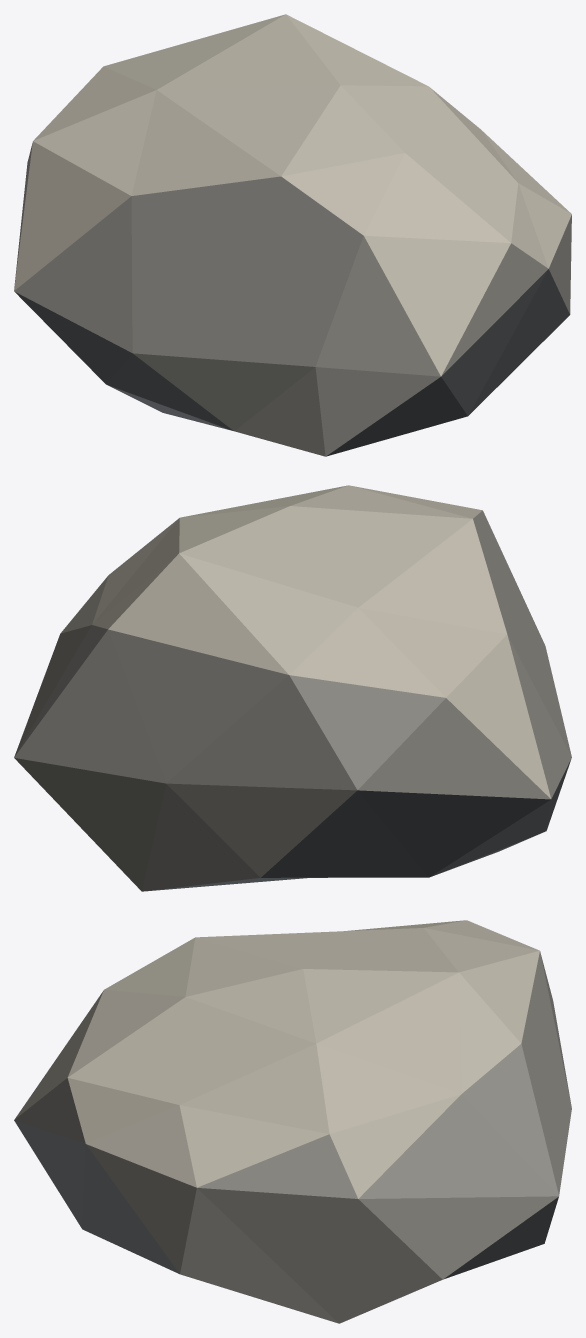
Rendered from SM_Rock_F.fbx.
The picture shows the model from 3 angles, top to bottom: view 1: azimuth 30°, elevation 25°; view 2: azimuth 150°, elevation 25°; view 3: azimuth 270°, elevation 25°; orthographic projection. The views are drawn at different scales.
Parts seen in each view (by area): view 1: SM_Rock_F; view 2: SM_Rock_F; view 3: SM_Rock_F.
Boxes of the visible parts, <box> form: SM_Rock_F: <box>14,14,571,456</box>; SM_Rock_F: <box>14,485,571,891</box>; SM_Rock_F: <box>14,920,571,1323</box>.
Size of the model in its own units: 3.28 by 1.92 by 3.41.
